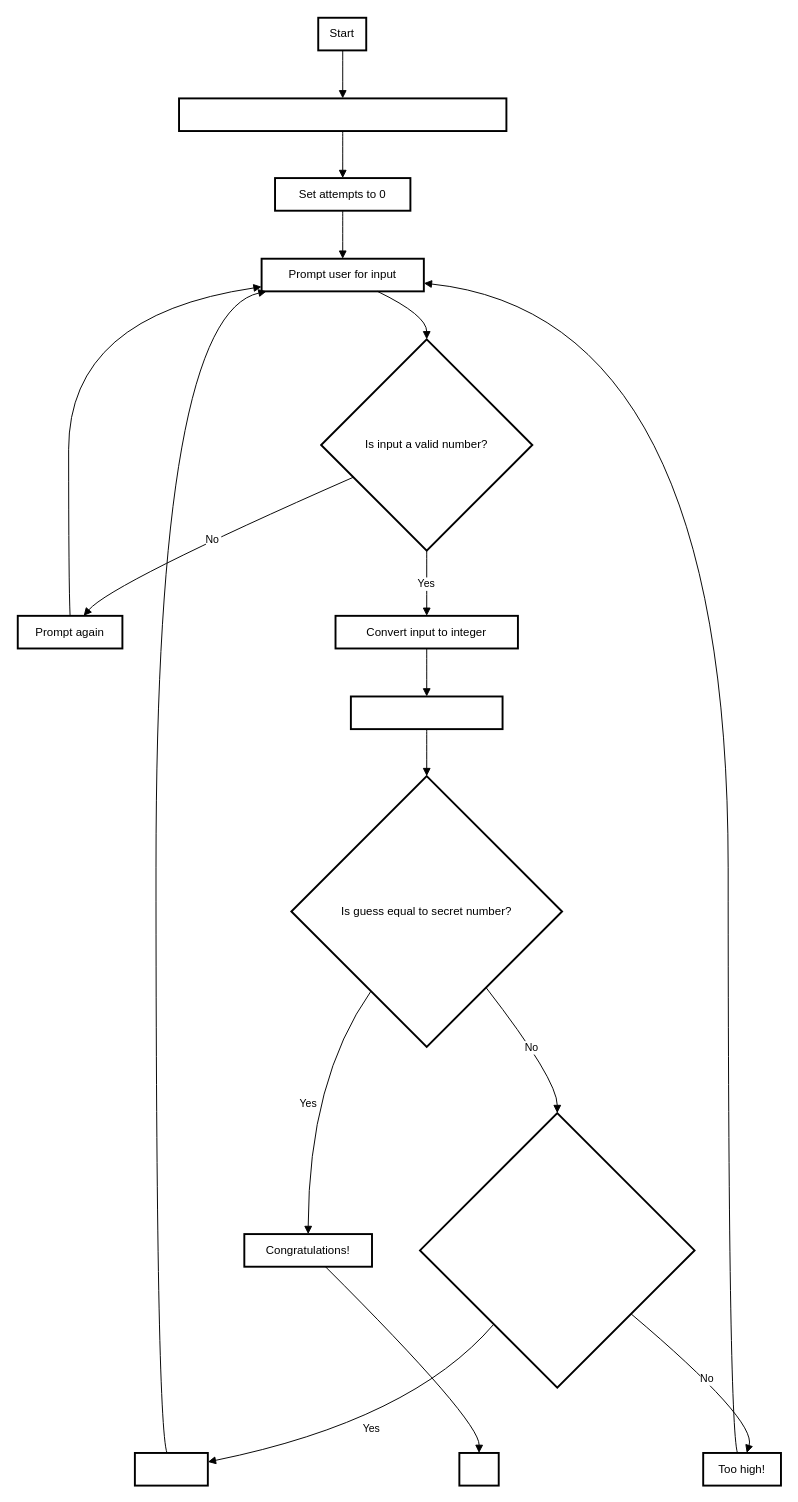
Image size: 798x1502. Some labels were removed from this diagram. Each missing label, with the centre of its shape:
End: point 478,1469
Generate random number between 1 and 100: point 342,114
Increment attempts: point 426,712
Is guess less than secret number?: point 557,1250
Too low!: point 170,1469
